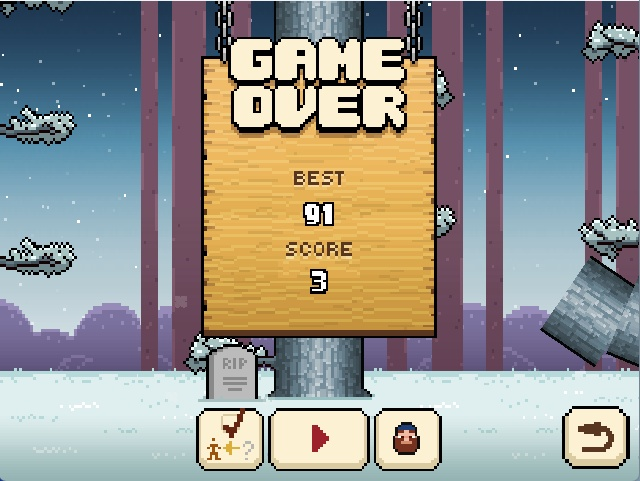game_over: (227, 33, 410, 139)
